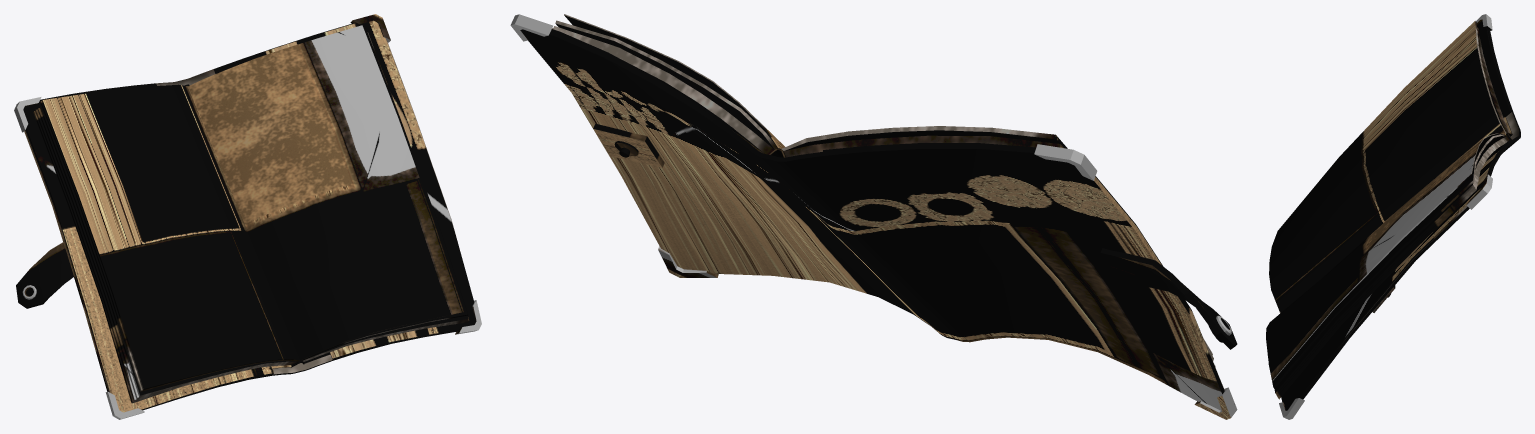
The model's file is Notebook.fbx.
The picture shows the model from 3 angles, left to right: view 1: azimuth 30°, elevation 25°; view 2: azimuth 150°, elevation 25°; view 3: azimuth 270°, elevation 25°; orthographic projection. The views are drawn at different scales.
Parts seen in each view (by area): view 1: Object_2; view 2: Object_2; view 3: Object_2.
Boxes of the visible parts, x1,y1,x2,y2 form: Object_2: (14, 14, 481, 419); Object_2: (510, 14, 1237, 419); Object_2: (1266, 14, 1520, 419).
Bounding box in the file's own units: 985 × 563 × 537.
